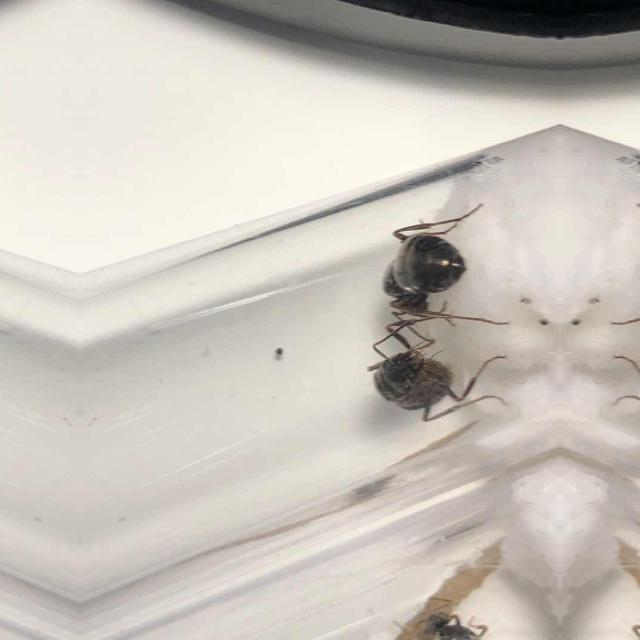Formica: (364, 195, 480, 337)
Lasius: (354, 332, 486, 422)
